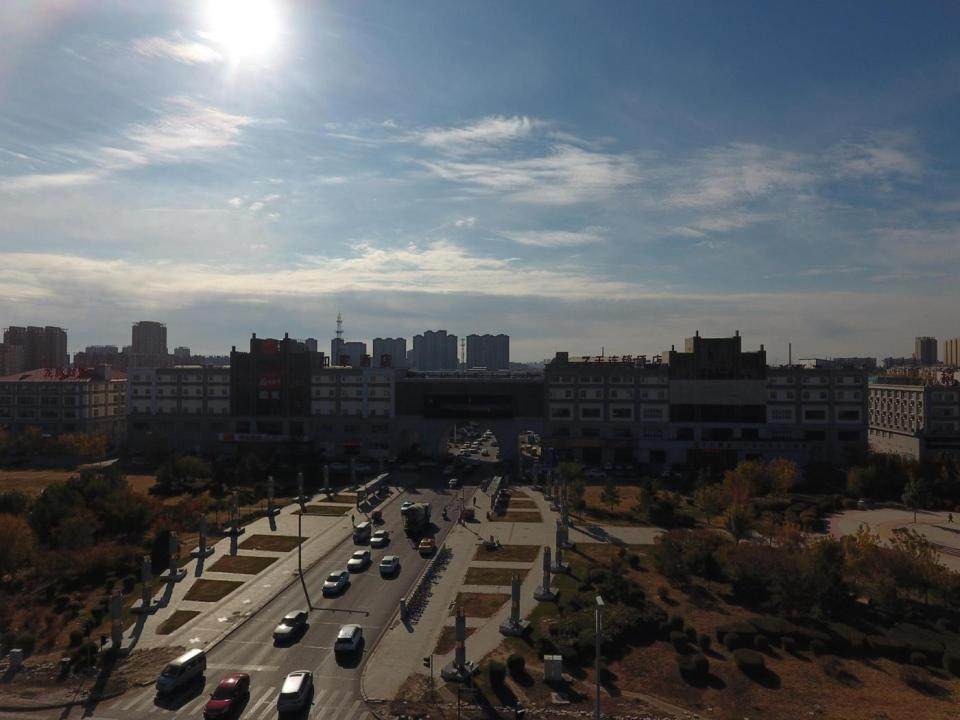car: (203, 672, 250, 720), (276, 670, 314, 711), (272, 610, 309, 641), (333, 624, 363, 654), (322, 570, 350, 592), (346, 549, 371, 570), (379, 556, 399, 576), (370, 530, 389, 548), (418, 538, 435, 554), (400, 502, 417, 516), (350, 464, 372, 472), (662, 470, 683, 478), (538, 464, 559, 472), (398, 463, 419, 471), (418, 459, 438, 467), (614, 470, 636, 477), (132, 458, 151, 466), (588, 469, 606, 477), (525, 468, 545, 475), (328, 463, 348, 470), (639, 471, 656, 479), (637, 462, 650, 472), (300, 464, 320, 470), (696, 464, 710, 472), (272, 462, 288, 469), (706, 464, 718, 473), (197, 460, 212, 467), (448, 478, 459, 487), (462, 466, 473, 475), (734, 466, 750, 472), (671, 463, 683, 471), (453, 460, 465, 468), (576, 460, 586, 469), (127, 448, 142, 454), (377, 454, 388, 462), (660, 464, 672, 471), (683, 464, 695, 471), (216, 454, 228, 461), (623, 462, 633, 470), (416, 456, 432, 461), (388, 456, 398, 464), (179, 450, 189, 458), (612, 463, 623, 470), (603, 462, 612, 470), (544, 461, 552, 470), (444, 466, 453, 474), (469, 446, 478, 454), (362, 456, 374, 462), (438, 444, 449, 450), (461, 425, 474, 430), (397, 456, 410, 461), (440, 442, 452, 447), (472, 459, 480, 466), (460, 446, 467, 454), (490, 440, 498, 447), (532, 460, 541, 466), (467, 432, 477, 437), (463, 450, 470, 457), (472, 442, 479, 449), (457, 454, 465, 460), (447, 452, 455, 458), (481, 449, 488, 455), (464, 442, 471, 448), (486, 430, 494, 435), (472, 432, 480, 437), (481, 435, 487, 441), (476, 440, 482, 445), (484, 434, 491, 438)
truck: (404, 501, 432, 535), (454, 428, 468, 434), (449, 435, 462, 441)
van: (154, 648, 206, 693), (352, 521, 372, 543), (794, 466, 806, 472)
